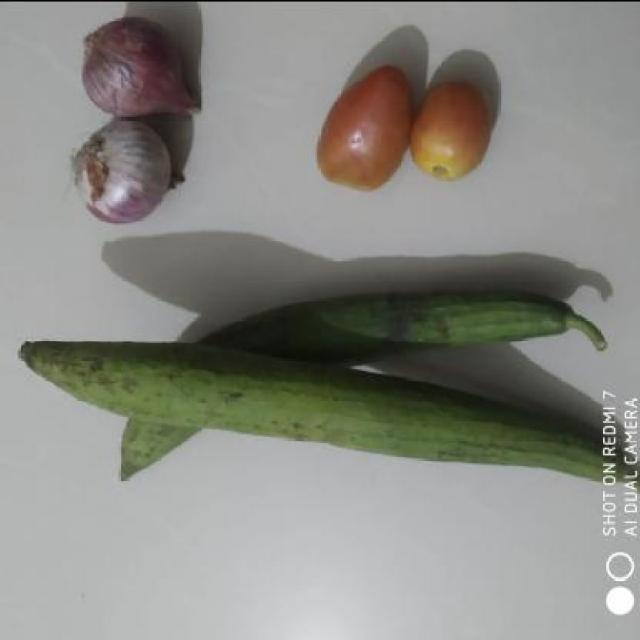onion: (76, 18, 210, 127), (61, 125, 196, 223)
tomato: (312, 60, 414, 186), (416, 69, 506, 186)
